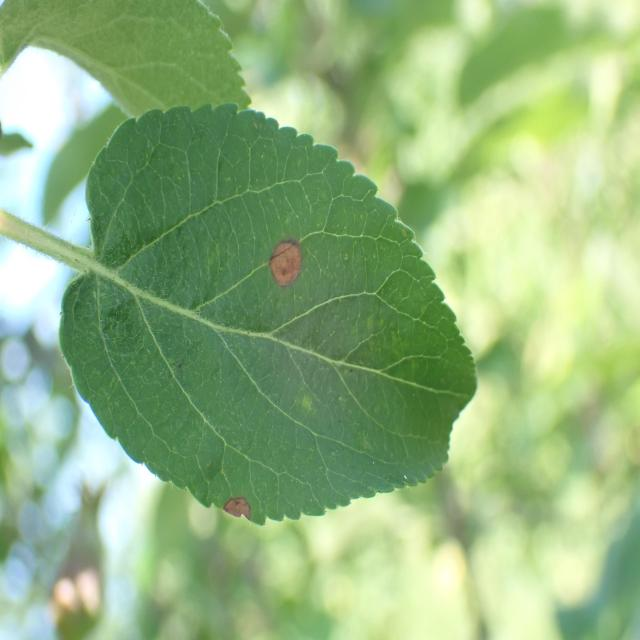Black Rot: (252, 215, 308, 303), (214, 479, 283, 544)
